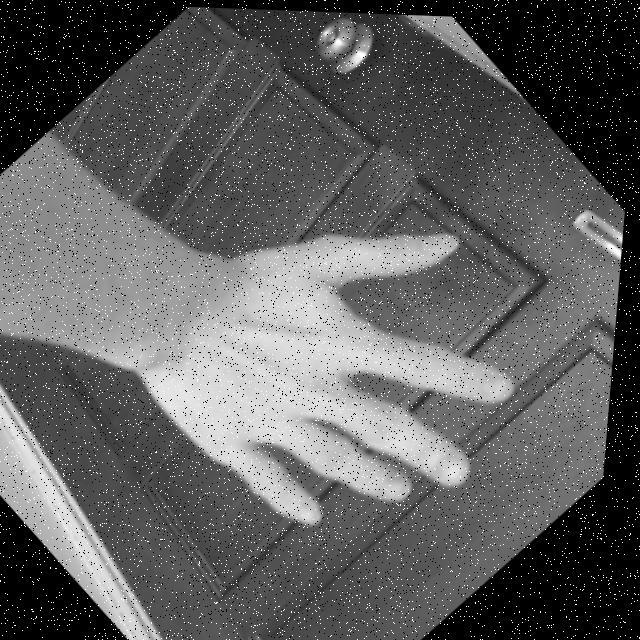no-gloves: (114, 132, 608, 610)
